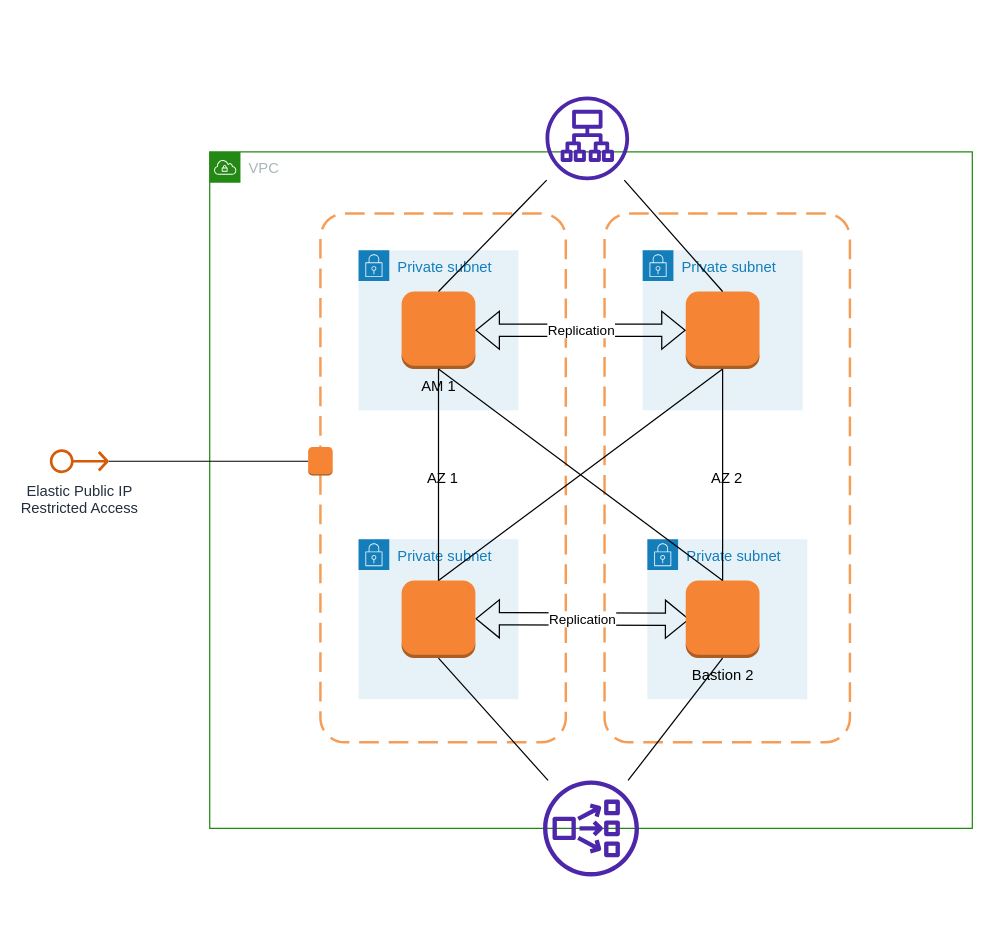
The diagram is 994 pixels wide and 941 high, and some of its shapes have lost their labels. The centre of each missing label's shape, as x and y in pixels:
AM 2: pixel 722 329
Application Gateway HTTP/WebSocket: pixel 587 138
Bastion 1: pixel 437 618
Network Load Balancer TCP: pixel 590 828
temp - Deb_Integration: pixel 320 460
